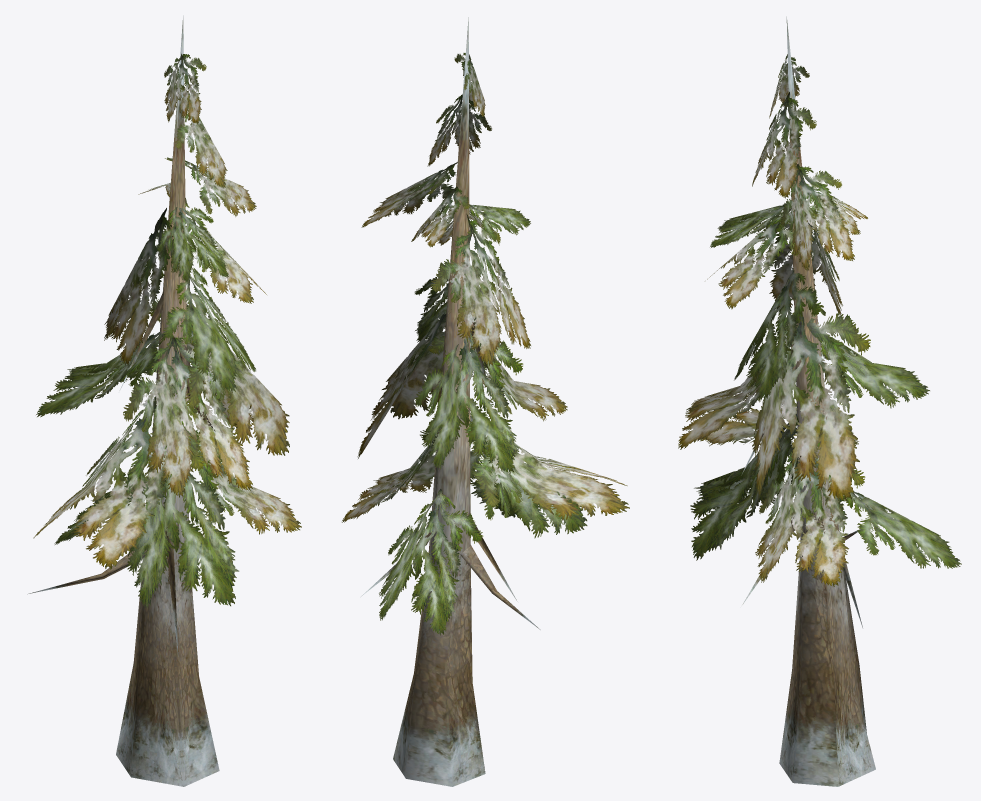
The model's file is environment_Tree_xuesong_001_c.FBX.
3 renders of one model, left to right at view 1: azimuth 30°, elevation 25°; view 2: azimuth 150°, elevation 25°; view 3: azimuth 270°, elevation 25°, orthographic. The views are drawn at different scales.
Parts seen in each view (by area): view 1: environment_Tree_xuesong_001_b, environment_Tree_xuesong_001_a, environment_Tree_xuesong_001_c; view 2: environment_Tree_xuesong_001_b, environment_Tree_xuesong_001_c, environment_Tree_xuesong_001_a; view 3: environment_Tree_xuesong_001_b, environment_Tree_xuesong_001_c, environment_Tree_xuesong_001_a.
Boxes of the visible parts, bbox=[...] form: environment_Tree_xuesong_001_b: bbox=[33, 53, 301, 569]; environment_Tree_xuesong_001_a: bbox=[36, 204, 255, 609]; environment_Tree_xuesong_001_c: bbox=[27, 15, 219, 786]; environment_Tree_xuesong_001_b: bbox=[342, 53, 629, 522]; environment_Tree_xuesong_001_c: bbox=[360, 17, 540, 786]; environment_Tree_xuesong_001_a: bbox=[379, 204, 587, 635]; environment_Tree_xuesong_001_b: bbox=[678, 54, 870, 586]; environment_Tree_xuesong_001_c: bbox=[741, 16, 875, 786]; environment_Tree_xuesong_001_a: bbox=[690, 204, 961, 568].
Size of the model in its own units: 369 by 965 by 345.
Materials: 3 (3 with a texture image).
